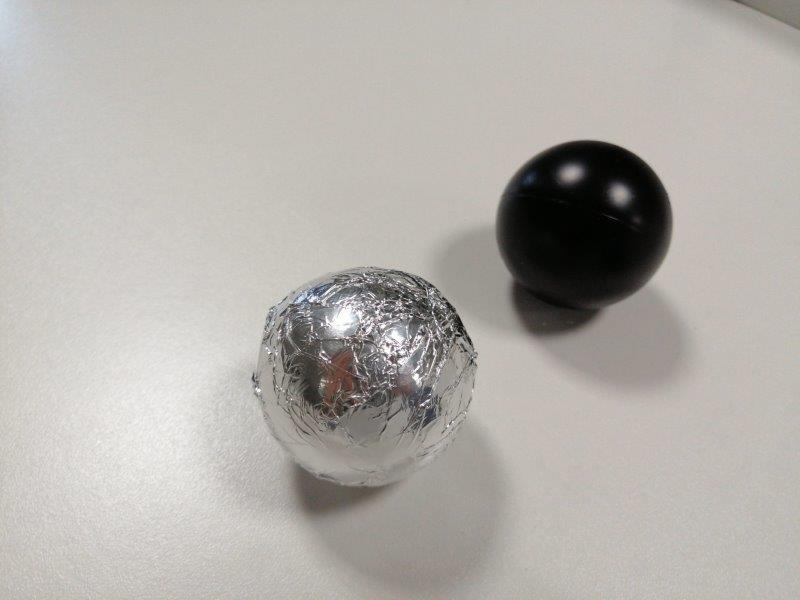bianca: (254, 266, 475, 488)
nera: (497, 140, 674, 311)
